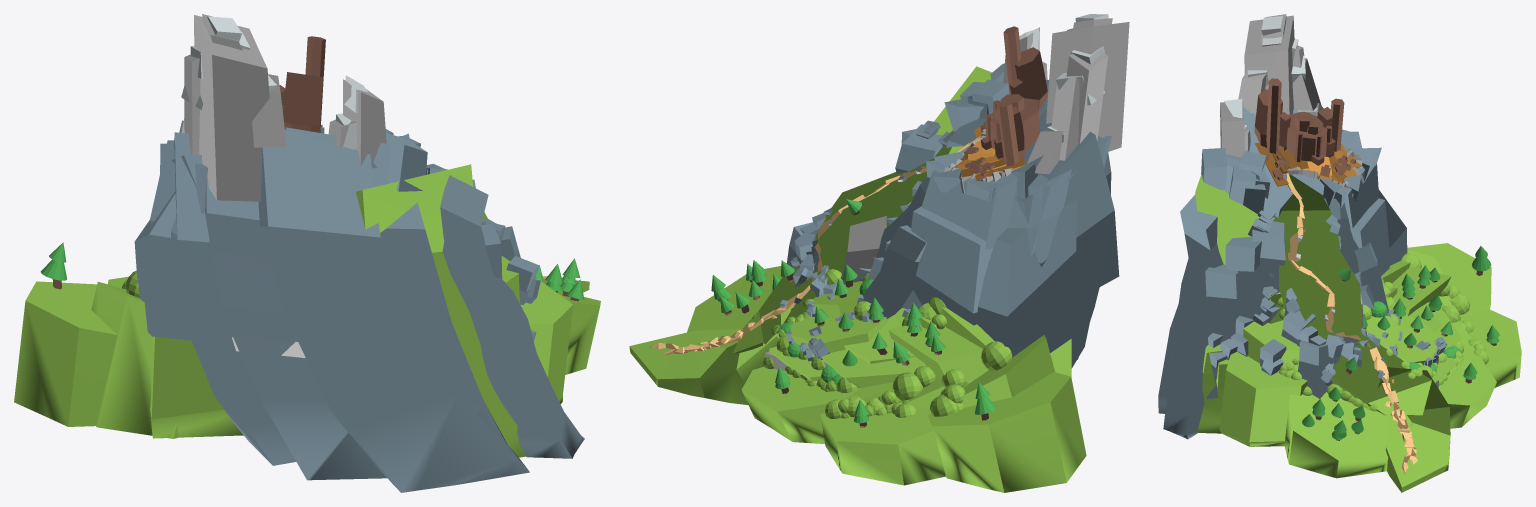
Rendered from MountainAhead2 - Copy.fbx.
3 views of the same model, side by side, from view 1: azimuth 30°, elevation 25°; view 2: azimuth 150°, elevation 25°; view 3: azimuth 270°, elevation 25° (orthographic). The views are drawn at different scales.
Visible parts, largest first — view 1: Node; view 2: Node; view 3: Node.
Part boxes in pixels (x1,y1,x2,y2): Node: [14, 14, 600, 492]; Node: [629, 14, 1129, 492]; Node: [1158, 14, 1521, 492].
Size of the model in its own units: 741 by 582 by 604.
